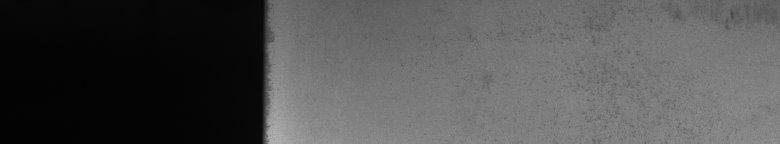ib: (540, 4, 748, 127)
